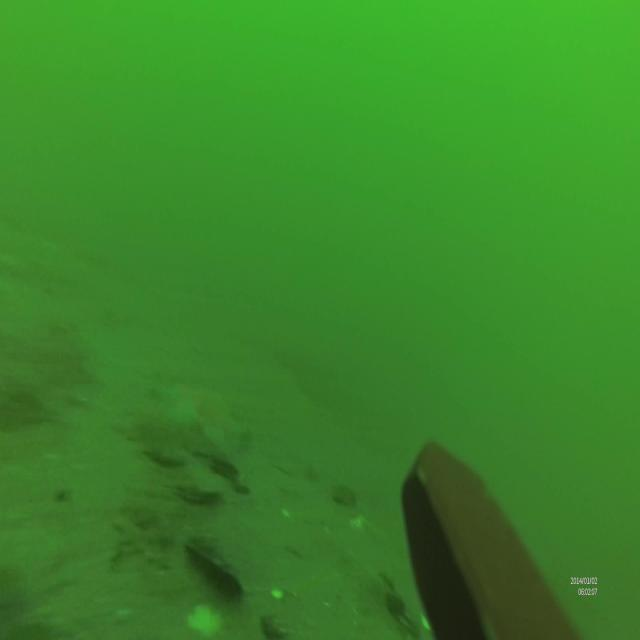echinus: (386, 592, 410, 619)
scallop: (144, 438, 190, 472), (178, 476, 222, 509), (189, 604, 223, 638)
